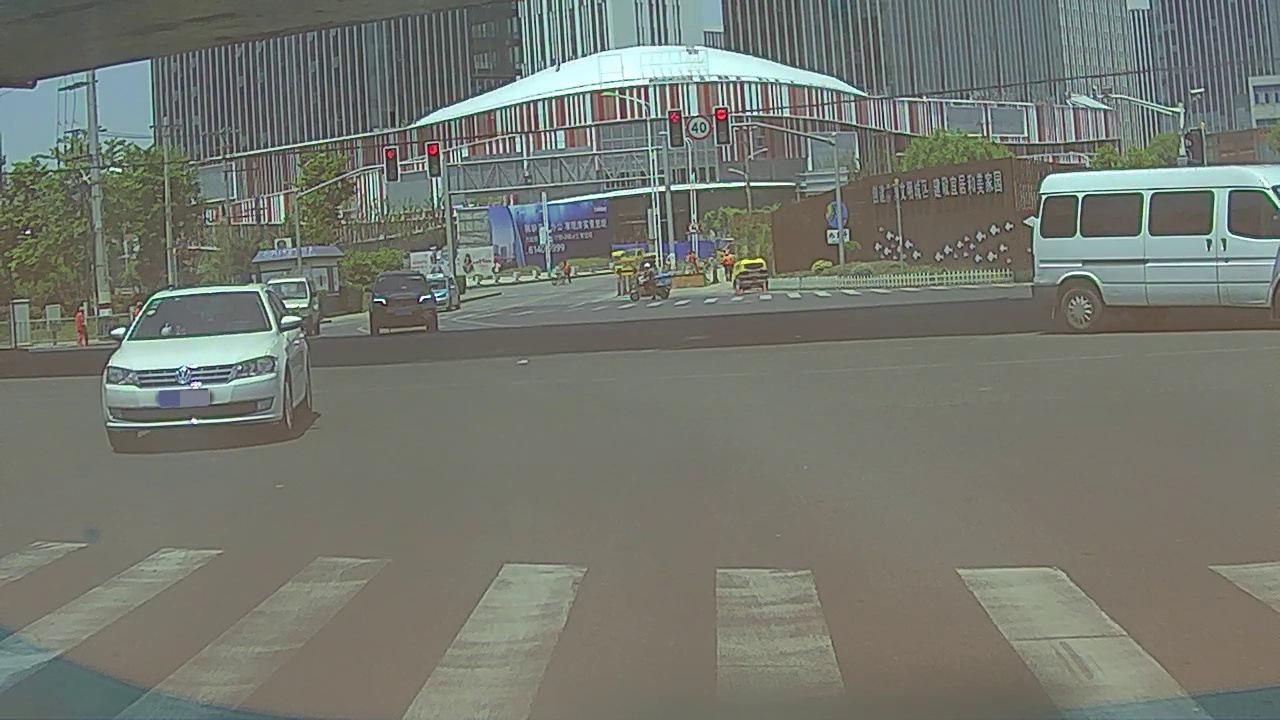traffic_light: (667, 109, 685, 148), (714, 108, 729, 144), (384, 148, 399, 180), (427, 144, 440, 178)
